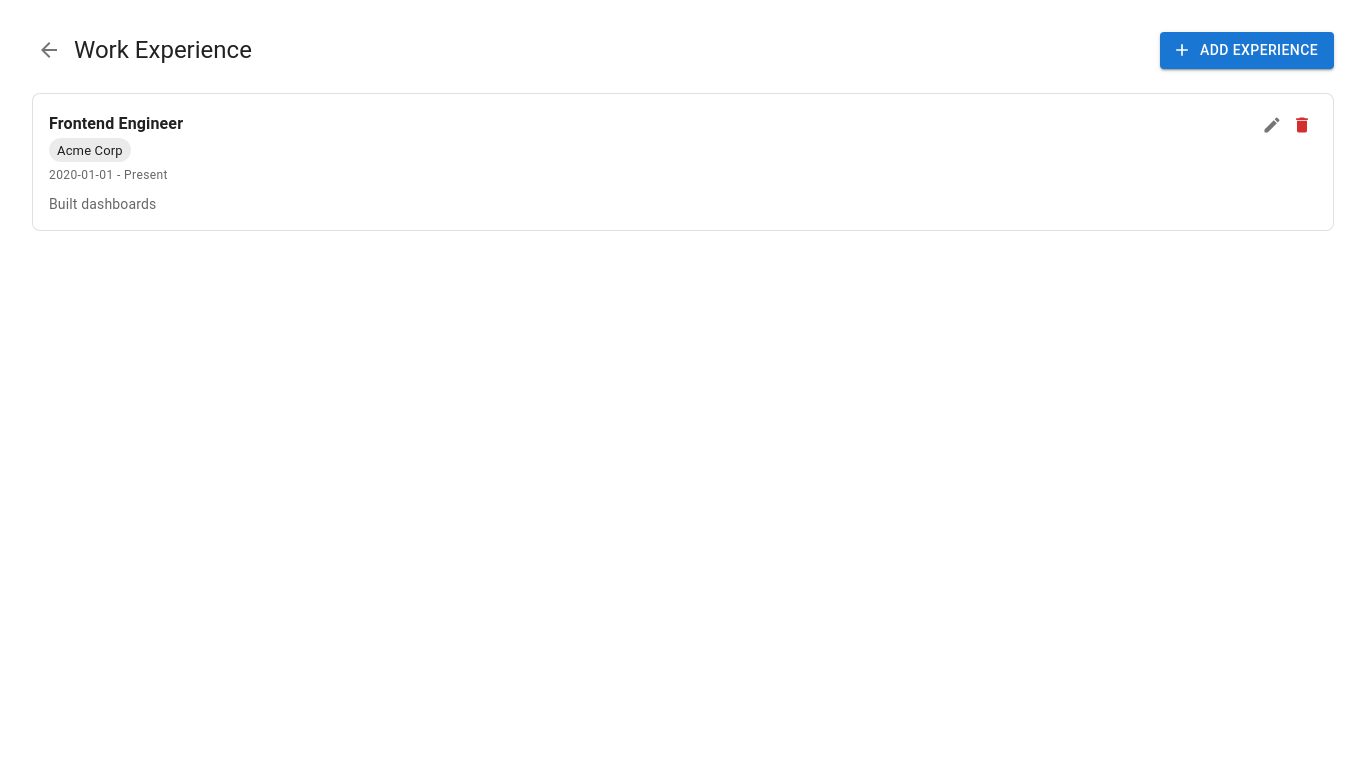
WorkExperiencePage › requires company and role before creating
What coordinates should you click on to do the following:
click the button "Add Experience"
I would click on:
 (1247, 50)
Its box is [1160,32,1334,68].
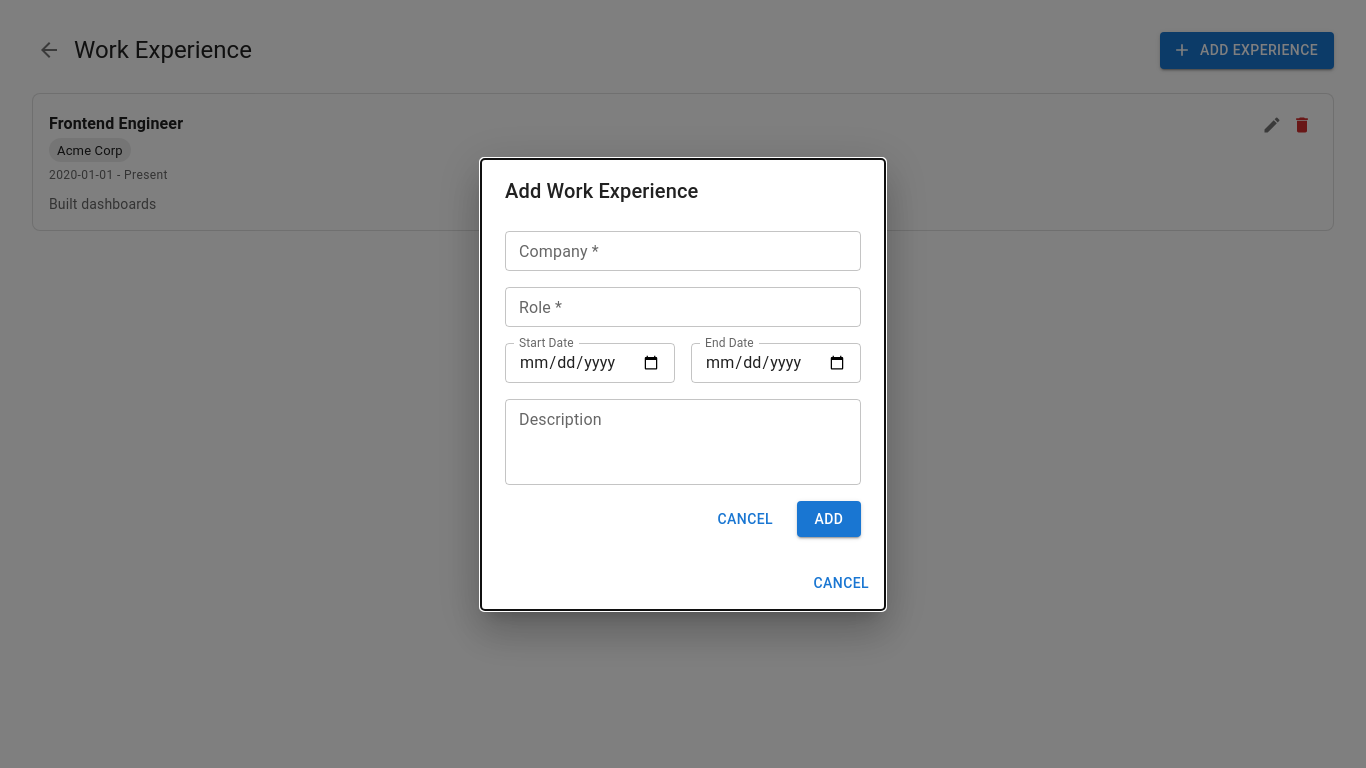
What coordinates should you click on to do the following:
click the button "Add"
I would click on:
 (829, 519)
Its box is [797,500,861,537].
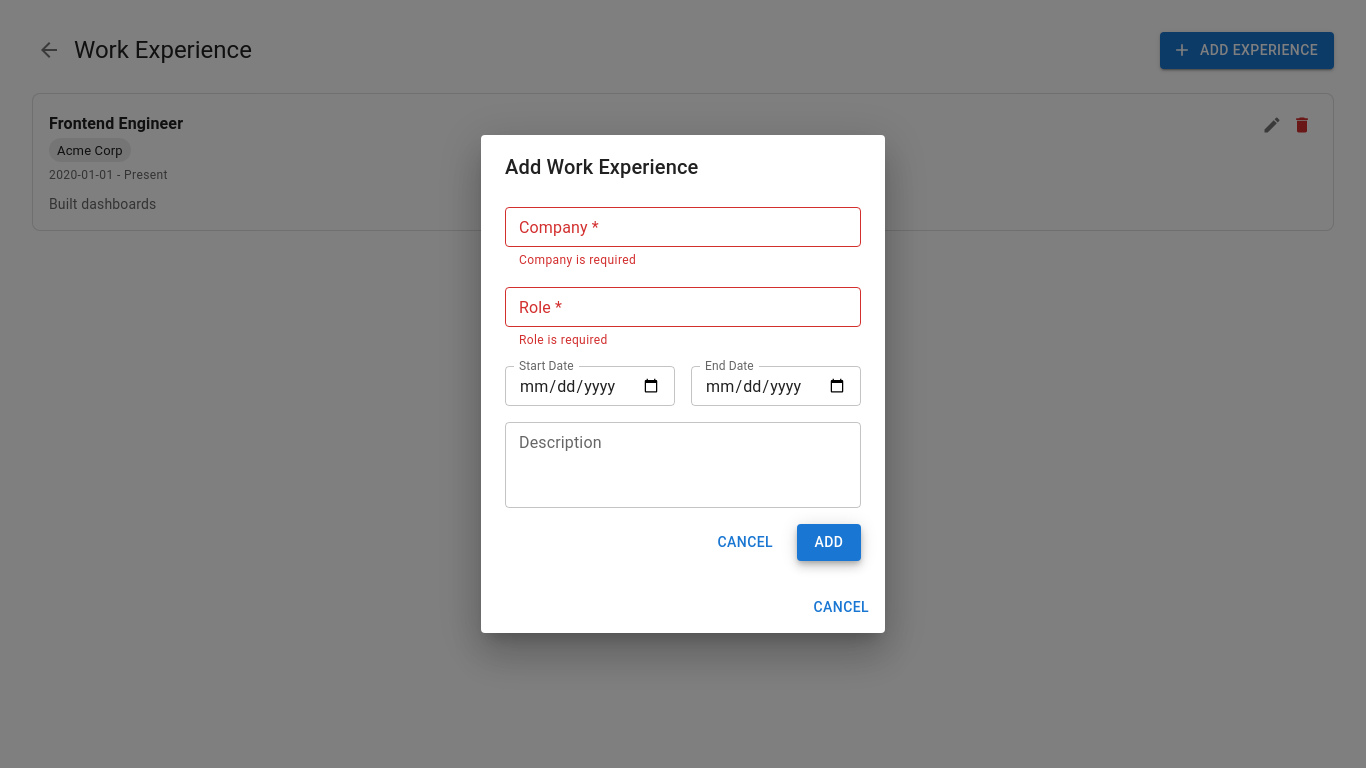
Result: the text "Company is required" is shown at [519,253,636,267]
Result: the text "Role is required" is shown at [519,332,608,346]
